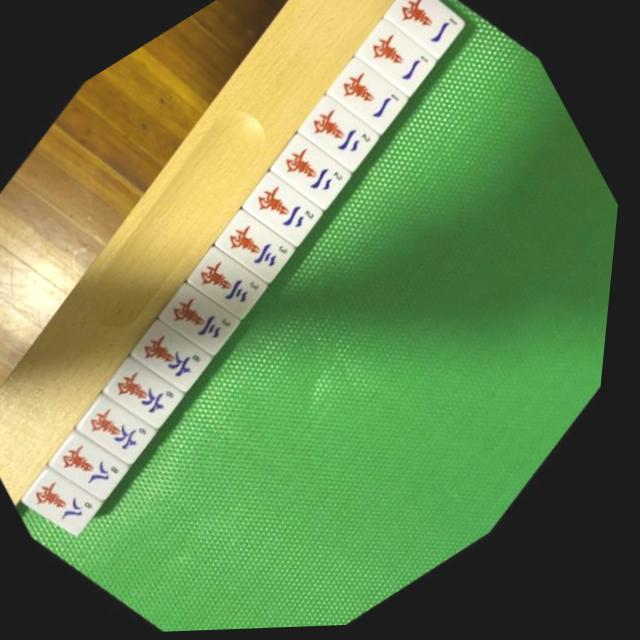sc1: (342, 10, 448, 117), (314, 48, 420, 154), (370, 0, 476, 79)
sc2: (258, 121, 369, 232), (284, 83, 395, 194), (231, 159, 339, 267)
sc3: (203, 195, 314, 307), (149, 268, 259, 378), (177, 234, 284, 342)
sc6: (122, 305, 230, 414), (96, 341, 203, 449), (70, 380, 175, 485)
sc8: (44, 417, 147, 521), (20, 453, 121, 555)
